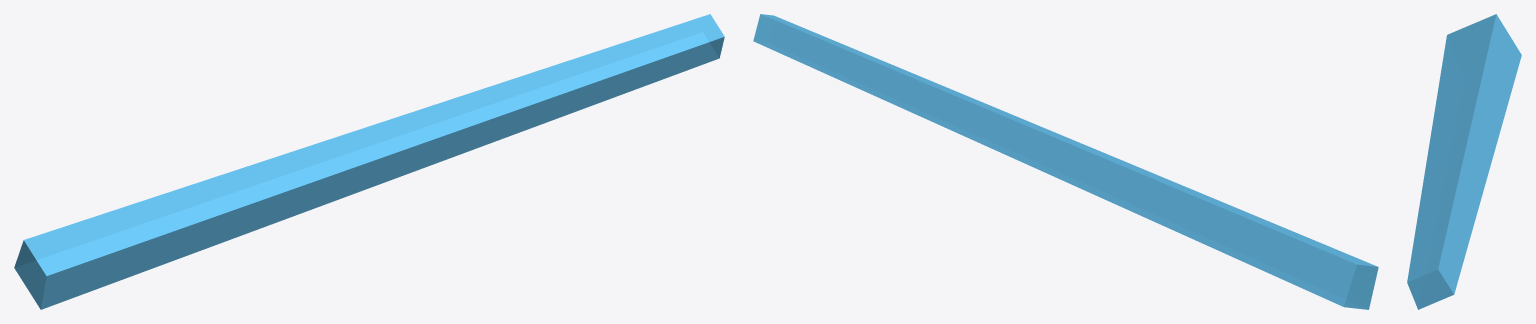
File: Event_421115418_HErechit_23.fbx
3 renders of one model, left to right at view 1: azimuth 30°, elevation 25°; view 2: azimuth 150°, elevation 25°; view 3: azimuth 270°, elevation 25°, orthographic. The views are drawn at different scales.
Visible parts, largest first — view 1: Model; view 2: Model; view 3: Model.
Boxes of the visible parts, x1=… form: Model: x1=14, y1=14, x2=724, y2=309; Model: x1=753, y1=14, x2=1378, y2=309; Model: x1=1407, y1=14, x2=1521, y2=309.
Bounding box in the file's own units: 6.03 × 1.26 × 0.8432.
